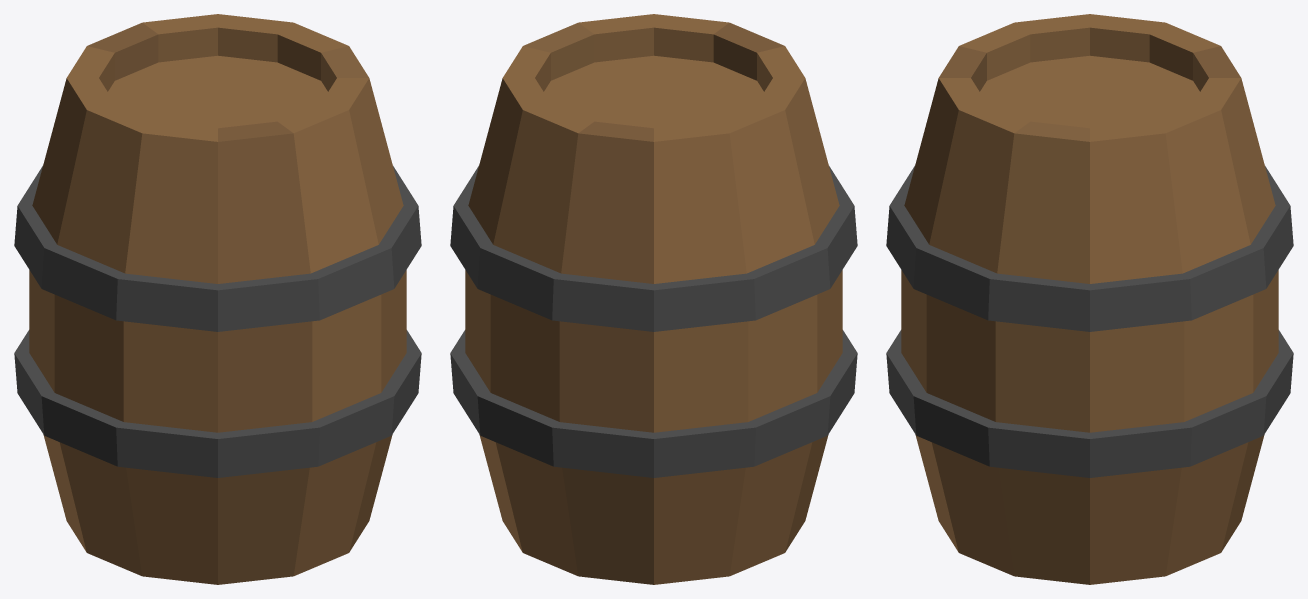
File: Barrel_Simple.fbx
The picture shows the model from 3 angles, left to right: view 1: azimuth 30°, elevation 25°; view 2: azimuth 150°, elevation 25°; view 3: azimuth 270°, elevation 25°; orthographic projection.
Parts seen in each view (by area): view 1: Barrel; view 2: Barrel; view 3: Barrel.
Part boxes in pixels (left/top/right/bottom): Barrel: left=14, top=14, right=421, bottom=584; Barrel: left=450, top=14, right=857, bottom=584; Barrel: left=886, top=14, right=1293, bottom=584.
Size of the model in its own units: 100 by 120 by 100.
